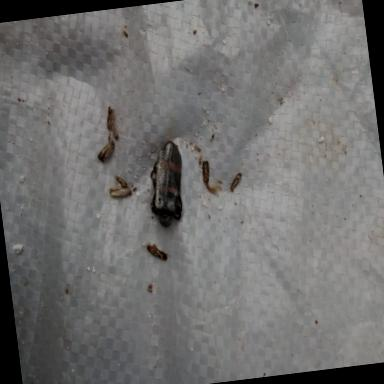pbw: (146, 237, 172, 262), (96, 134, 118, 162), (108, 182, 133, 198), (104, 102, 118, 130), (229, 171, 244, 191), (201, 158, 211, 184), (113, 172, 128, 188), (110, 118, 118, 139)
